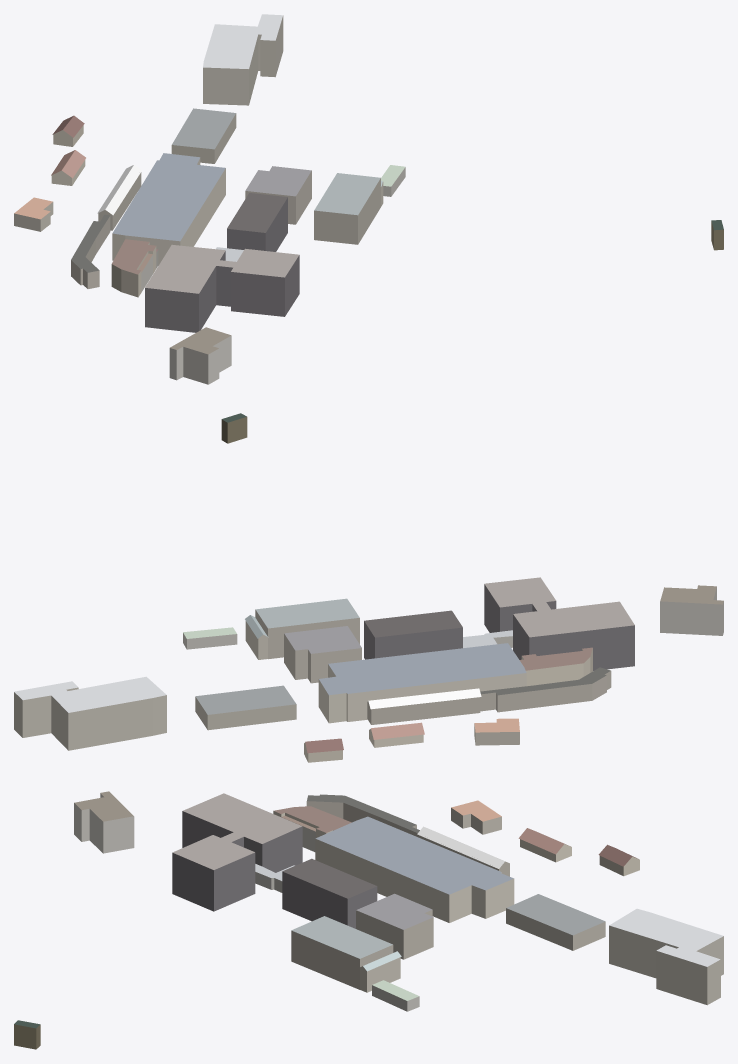
3 views of the same model, one above another, from view 1: azimuth 30°, elevation 25°; view 2: azimuth 150°, elevation 25°; view 3: azimuth 270°, elevation 25° (orthographic). The views are drawn at different scales.
Visible parts, largest first — view 1: tuile; view 2: tuile; view 3: tuile.
Part boxes in pixels (x1=…): tuile: x1=14, y1=14, x2=723, y2=384; tuile: x1=14, y1=413, x2=723, y2=762; tuile: x1=14, y1=791, x2=723, y2=1049.
Size of the model in its own units: 237 by 25.21 by 268.
